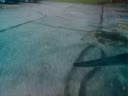window: (1, 0, 128, 96)
